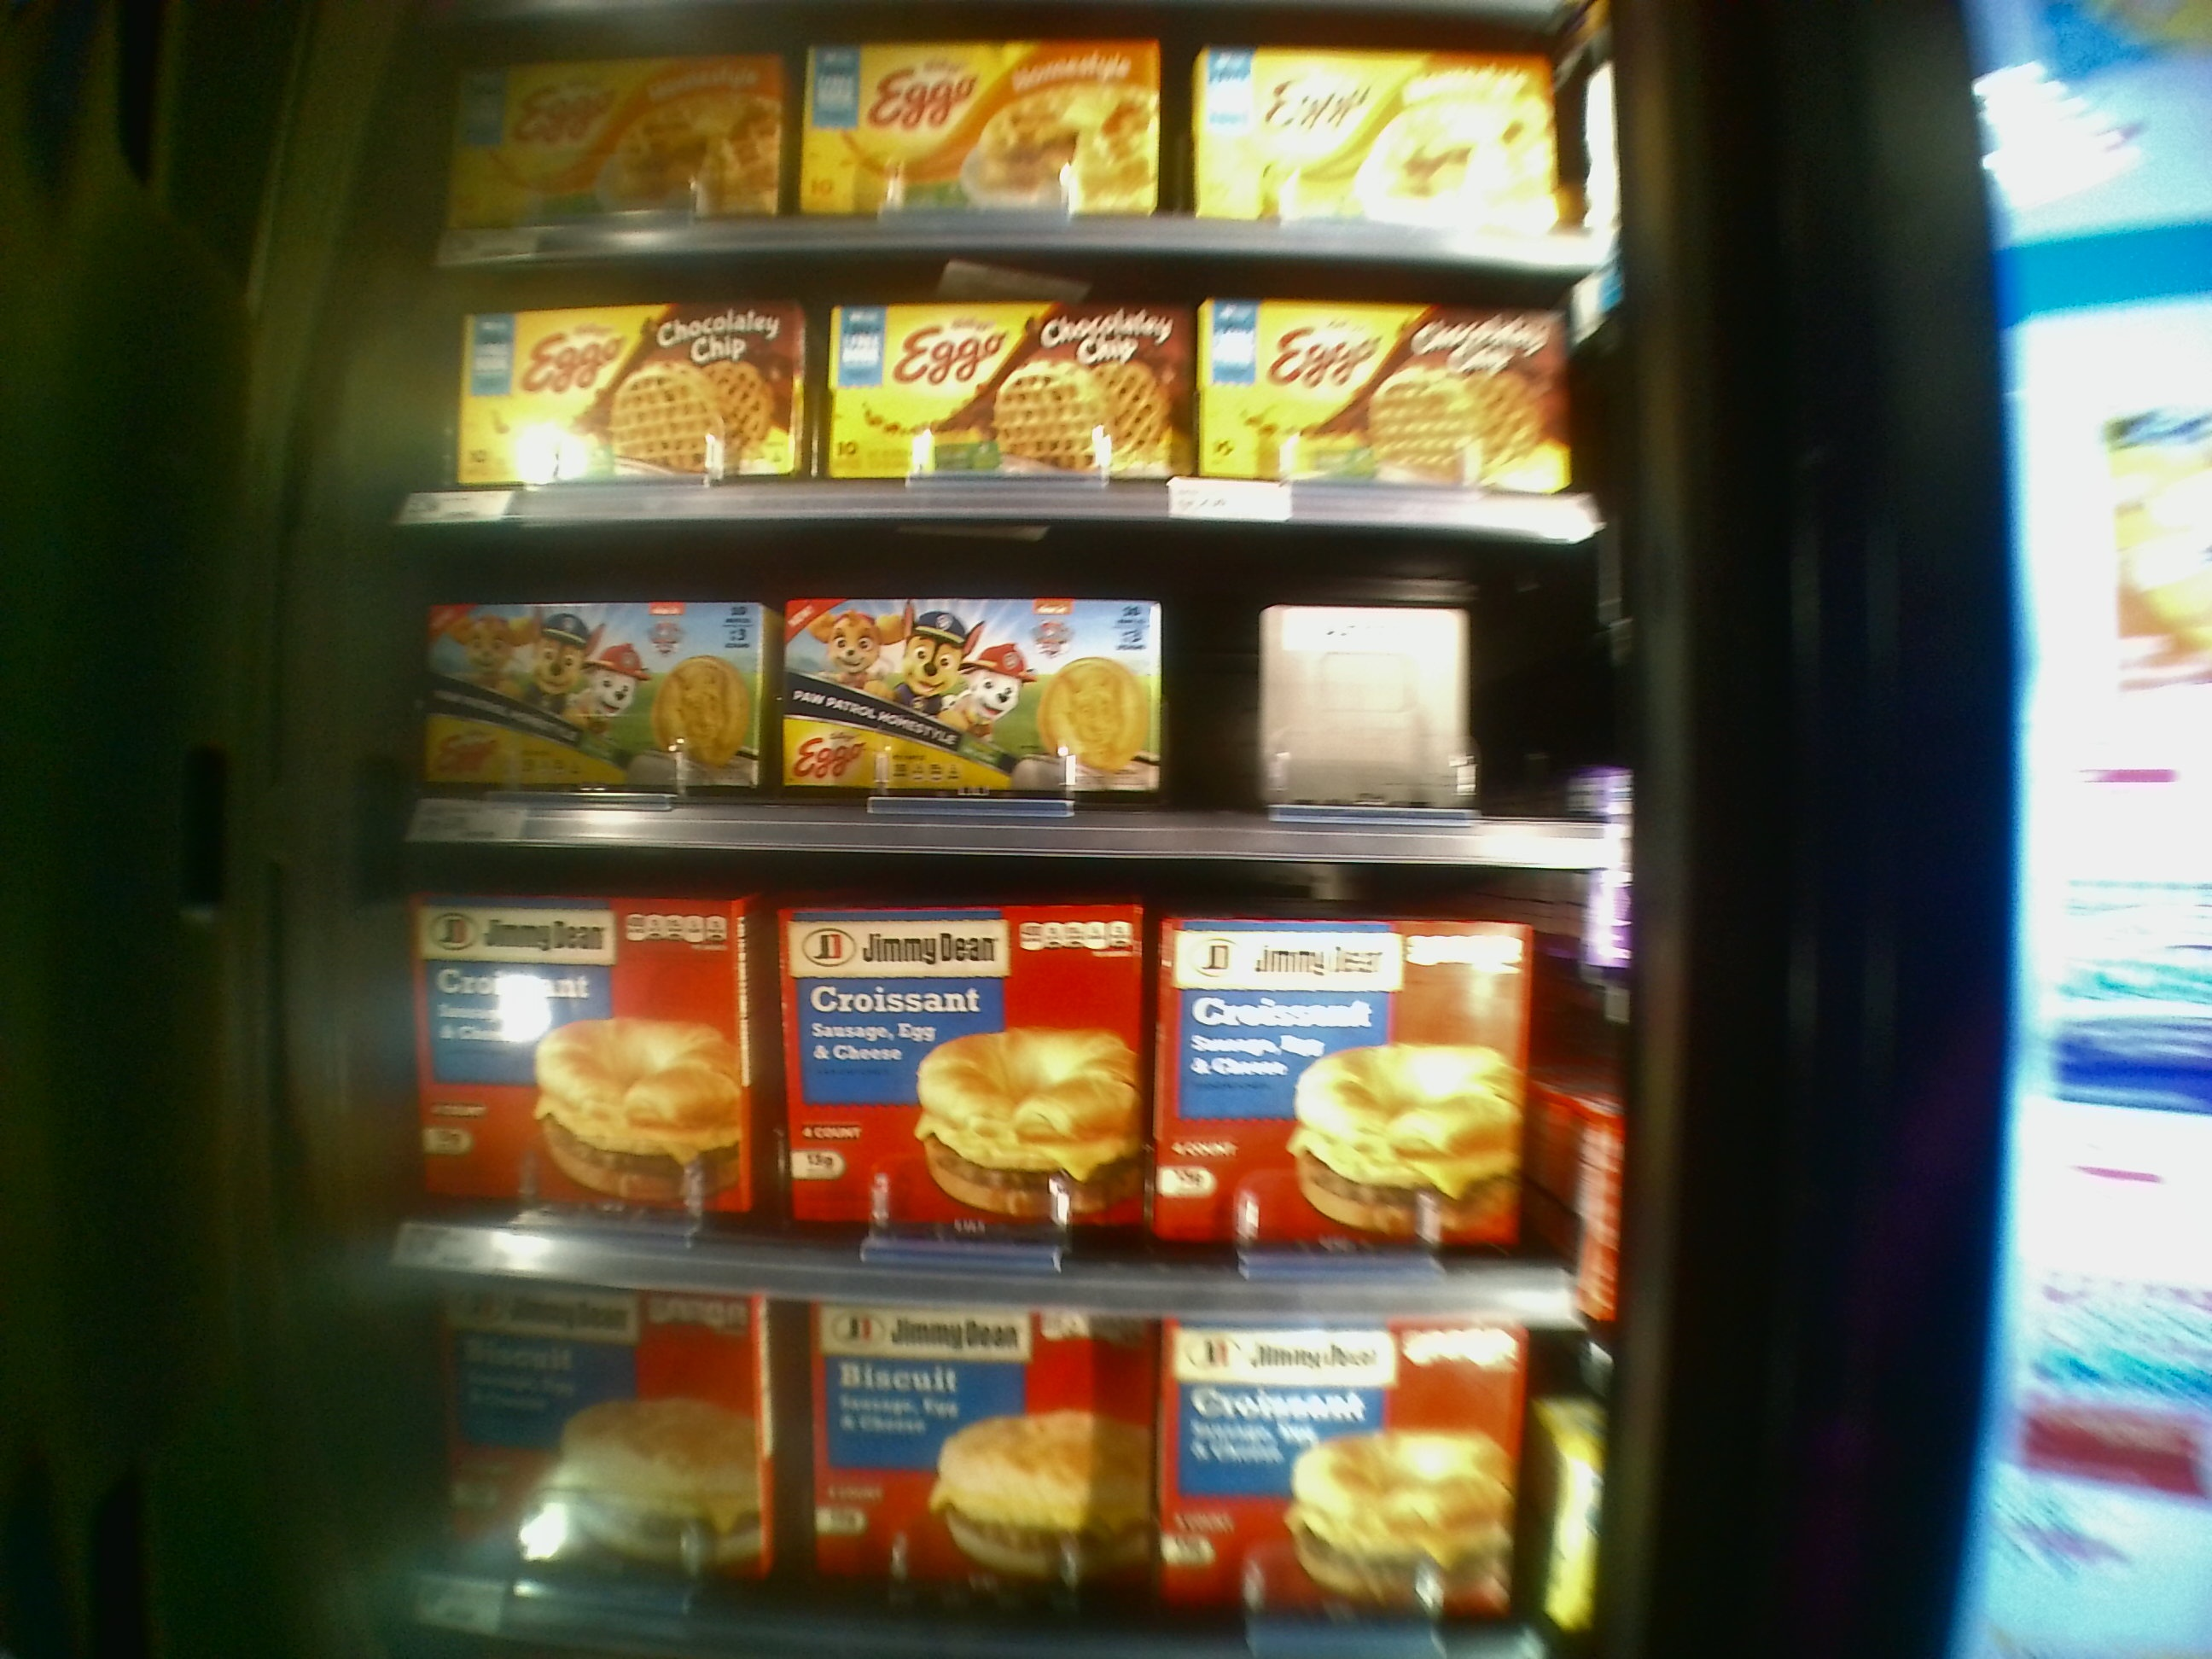shelf: (411, 512, 1606, 857), (415, 239, 1616, 532)
